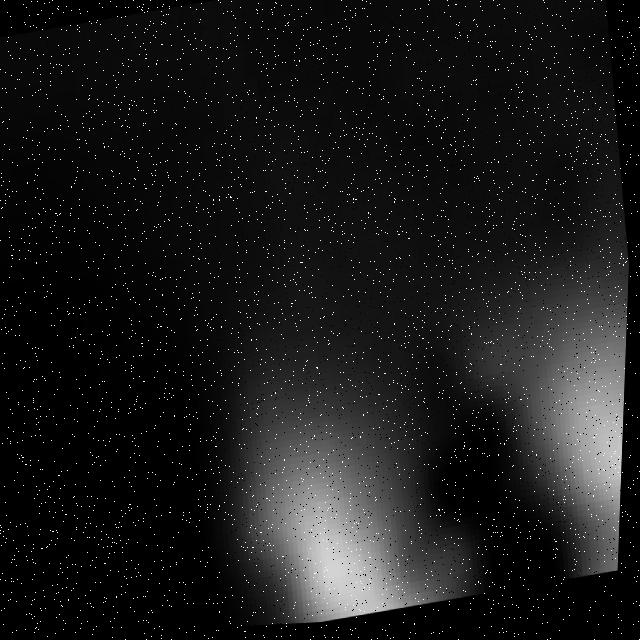person: (195, 256, 477, 632), (481, 178, 635, 595)
